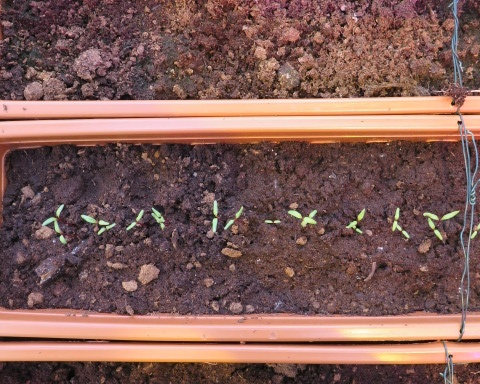crop: (222, 204, 245, 231), (52, 221, 74, 246), (41, 205, 68, 225), (287, 208, 317, 226), (125, 208, 145, 232), (151, 207, 171, 230), (423, 210, 461, 222), (427, 218, 443, 243), (209, 198, 220, 234), (346, 208, 365, 227), (82, 213, 109, 226), (391, 208, 401, 232), (99, 222, 116, 236), (397, 224, 412, 239), (350, 221, 365, 235), (471, 223, 480, 241), (261, 219, 284, 225)
